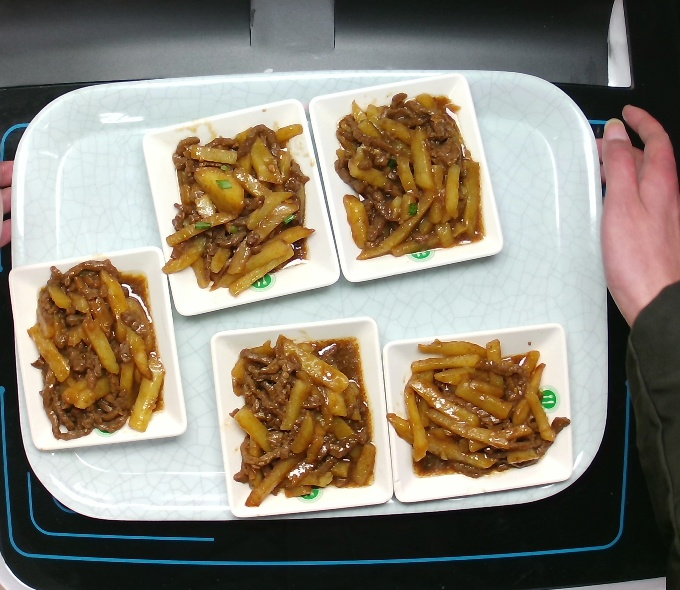wcq-TuDouNiuRou: (156, 114, 325, 307), (391, 323, 570, 495), (329, 83, 485, 274), (217, 328, 377, 513), (17, 248, 170, 439)
